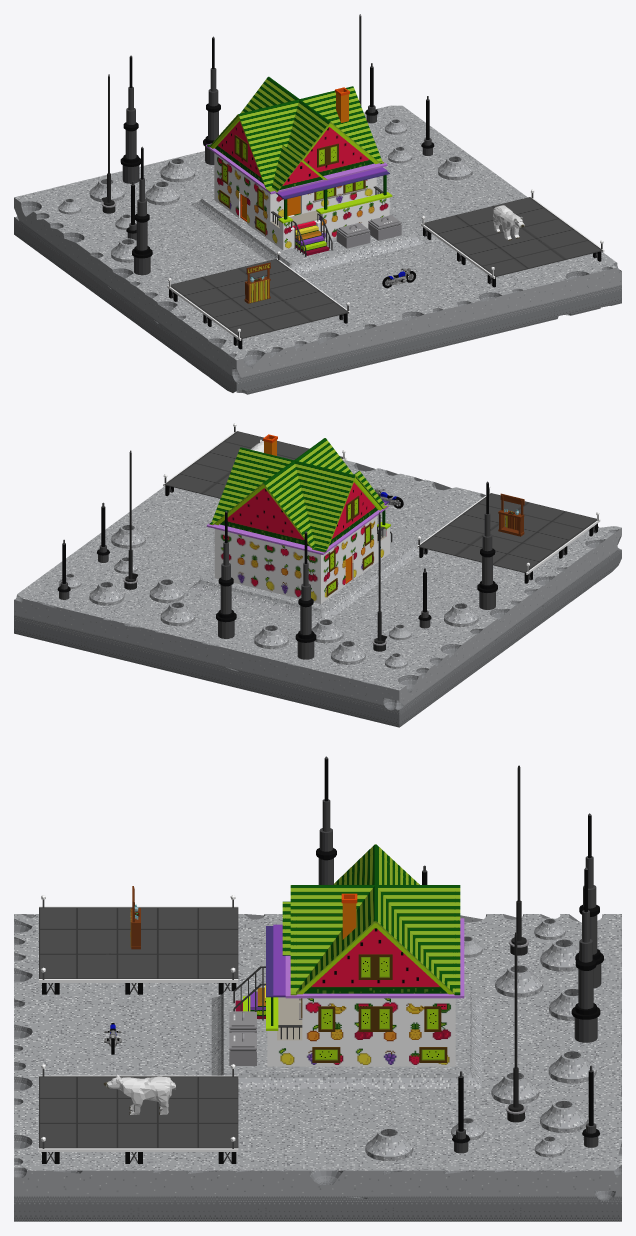
3 renders of one model, top to bottom at view 1: azimuth 30°, elevation 25°; view 2: azimuth 150°, elevation 25°; view 3: azimuth 270°, elevation 25°, orthographic. The views are drawn at different scales.
Visible parts, largest first — view 1: Cube.027, Cube.1063, Cube.026, Cube.025, Cube.028, Cylinder.020, Cylinder.021, Cylinder.017, OBJRANDOM_LEMONADE_STAND, ANIMAL_OSO_POLAR, Cube.029, Cube.030 (+4 smaller); view 2: Cube.027, Cube.1063, Cube.025, Cube.028, Cube.026, Cylinder.020, Cylinder.021, Cylinder.017, OBJRANDOM_LEMONADE_STAND, Cylinder.031, Cylinder.028, Cylinder.029 (+7 smaller); view 3: Cube.027, Cube.1063, Cube.025, Cube.026, Cube.028, Cylinder.017, ANIMAL_OSO_POLAR, Cylinder.020, Cylinder.021, Cylinder.033, Cylinder.031, Cylinder.029 (+9 smaller).
Part boxes in pixels (x1=…): Cube.027: x1=14, y1=105, x2=621, y2=394; Cube.1063: x1=205, y1=76, x2=392, y2=256; Cube.026: x1=421, y1=189, x2=604, y2=287; Cube.025: x1=167, y1=251, x2=350, y2=349; Cube.028: x1=191, y1=195, x2=424, y2=274; Cylinder.020: x1=120, y1=55, x2=140, y2=183; Cylinder.021: x1=132, y1=146, x2=152, y2=275; Cylinder.017: x1=203, y1=36, x2=220, y2=164; OBJRANDOM_LEMONADE_STAND: x1=244, y1=262, x2=270, y2=303; ANIMAL_OSO_POLAR: x1=493, y1=205, x2=524, y2=240; Cube.029: x1=336, y1=222, x2=370, y2=248; Cube.030: x1=368, y1=215, x2=401, y2=240; Cube.027: x1=14, y1=460, x2=621, y2=727; Cube.1063: x1=206, y1=434, x2=392, y2=603; Cube.025: x1=417, y1=485, x2=600, y2=583; Cube.028: x1=190, y1=538, x2=419, y2=620; Cube.026: x1=163, y1=423, x2=346, y2=498; Cylinder.020: x1=295, y1=531, x2=316, y2=659; Cylinder.021: x1=477, y1=481, x2=497, y2=609; Cylinder.017: x1=216, y1=510, x2=236, y2=638; OBJRANDOM_LEMONADE_STAND: x1=498, y1=493, x2=524, y2=536; Cylinder.031: x1=89, y1=581, x2=124, y2=605; Cylinder.028: x1=331, y1=640, x2=365, y2=664; Cylinder.029: x1=160, y1=601, x2=195, y2=626; Cube.027: x1=14, y1=914, x2=621, y2=1221; Cube.1063: x1=233, y1=844, x2=464, y2=1066; Cube.025: x1=39, y1=895, x2=238, y2=994; Cube.026: x1=39, y1=1064, x2=238, y2=1163; Cube.028: x1=211, y1=991, x2=481, y2=1088; Cylinder.017: x1=571, y1=867, x2=600, y2=1042; ANIMAL_OSO_POLAR: x1=103, y1=1074, x2=175, y2=1114; Cylinder.020: x1=575, y1=813, x2=603, y2=988; Cylinder.021: x1=316, y1=756, x2=336, y2=884; Cylinder.033: x1=365, y1=1128, x2=413, y2=1160; Cylinder.031: x1=540, y1=1100, x2=587, y2=1132; Cylinder.029: x1=548, y1=1050, x2=596, y2=1083.
Size of the model in its own units: 4000 by 1803 by 4000.
34 materials, 6 textured.
